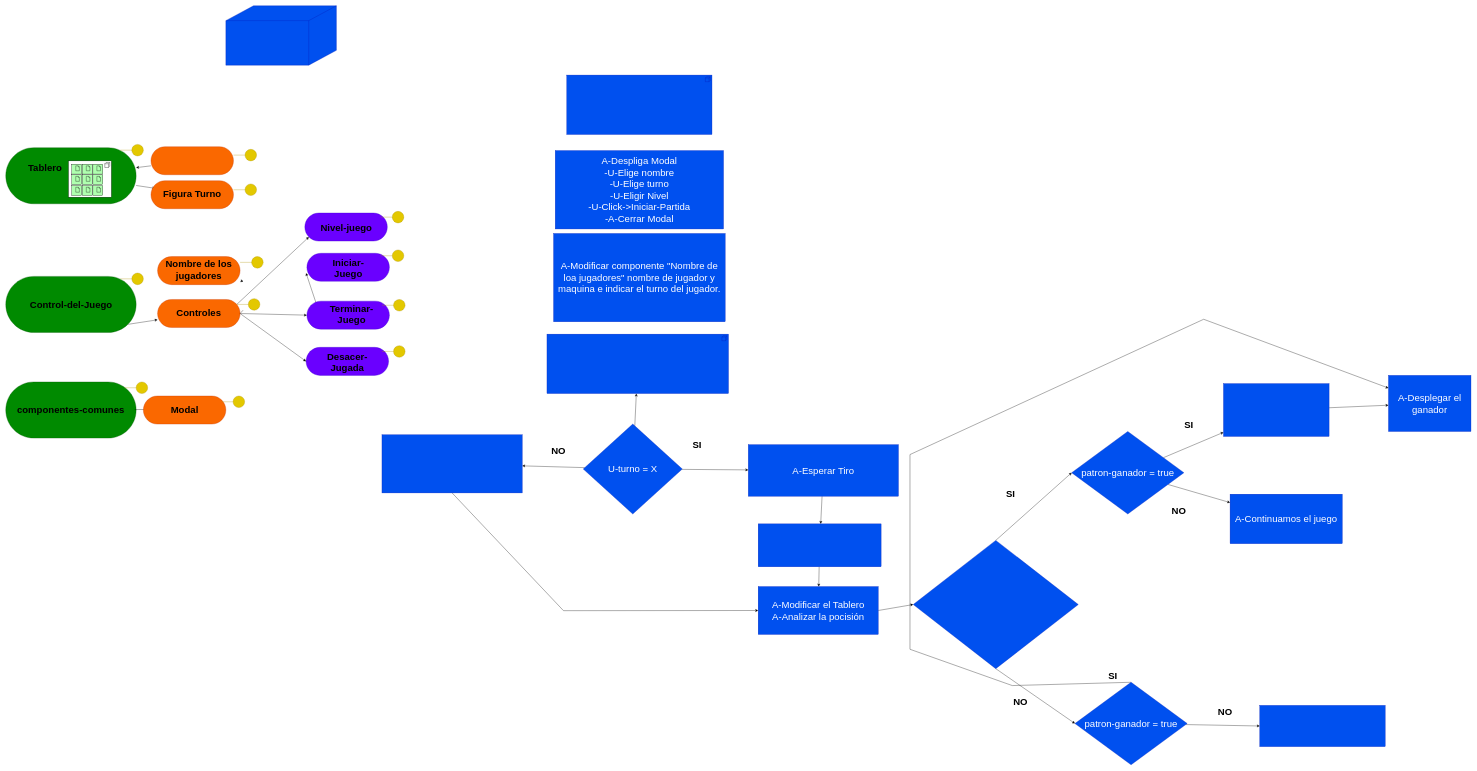
The diagram is 1477 pixels wide and 771 high, and some of its shapes have lost their labels. Here are the shapes that lost their labels. From the top down, the centre of each, then its label:
At point 281,35: "GATO GAME".
At point 639,104: "U-Click->Iniciar-juego".
At point 192,160: "Casillas".
At point 637,364: "A-Activar el tablero -A-Utilizar la funcionalidad del nivel elegido.".
At point 1276,409: "A-Termina el juego".
At point 452,463: "A-Ejecuta Tiro".
At point 819,545: "U-Ejecuta el tiro".
At point 995,604: "casillas-libres = true".
At point 1322,726: "A-Desplegar Empate".
